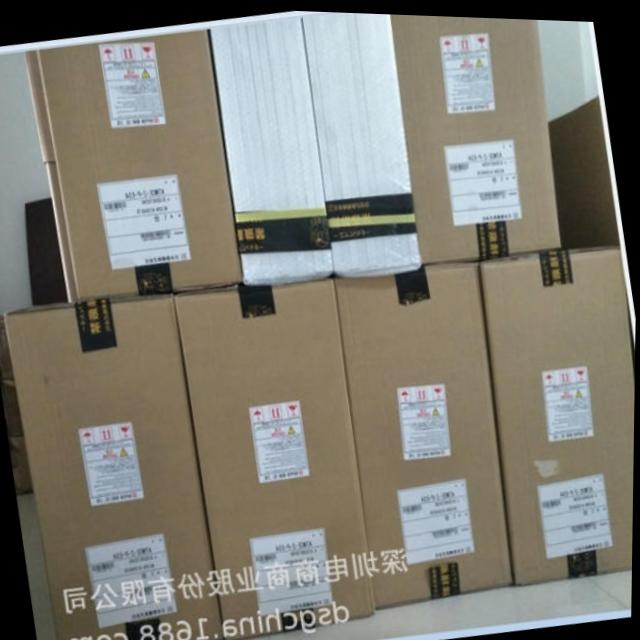box: (5, 295, 227, 640), (177, 274, 377, 640), (335, 257, 515, 606), (24, 27, 246, 305), (480, 242, 636, 584), (390, 11, 563, 262), (209, 14, 336, 282), (302, 10, 422, 273), (550, 93, 621, 244)
